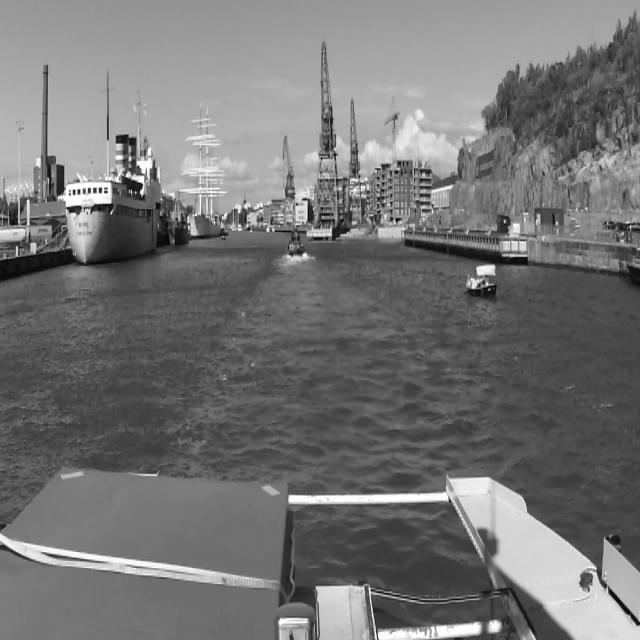ship: (64, 134, 170, 266), (191, 114, 221, 239), (466, 264, 498, 300), (169, 204, 189, 246), (287, 227, 305, 257), (266, 205, 274, 235)
